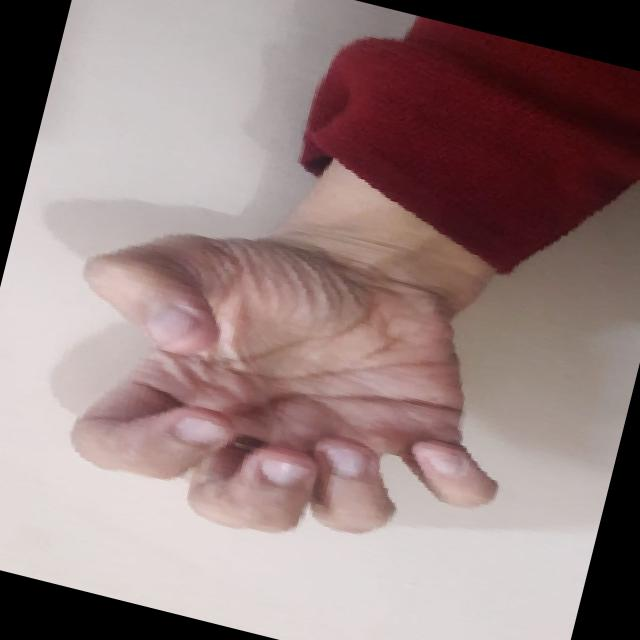Nail: (149, 304, 205, 346), (173, 416, 229, 445), (259, 456, 310, 485), (322, 444, 364, 477), (421, 450, 459, 471)
